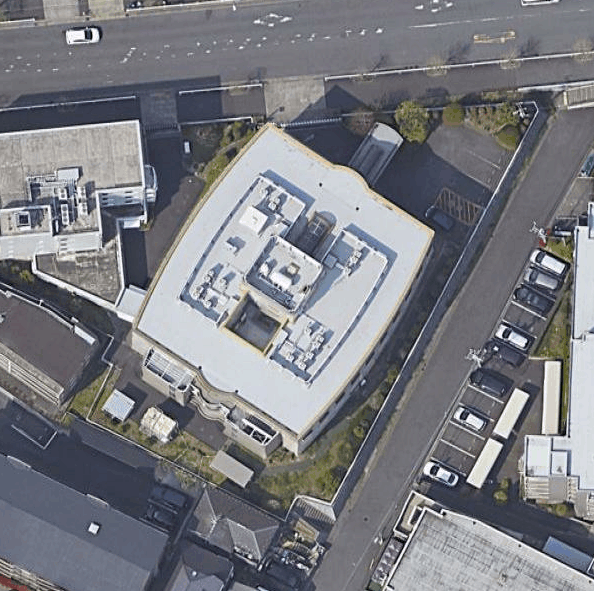facility: (119, 119, 445, 447), (1, 120, 142, 253)
